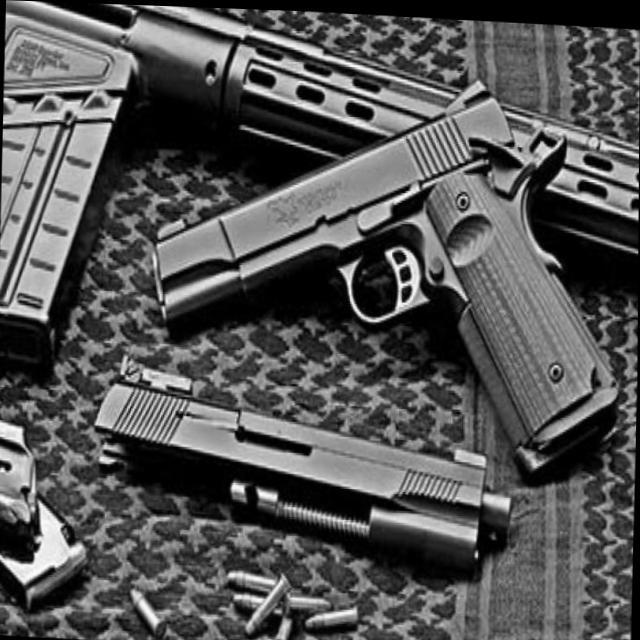weapon: (0, 0, 640, 377), (147, 52, 626, 478), (90, 352, 515, 576), (0, 365, 92, 611)
